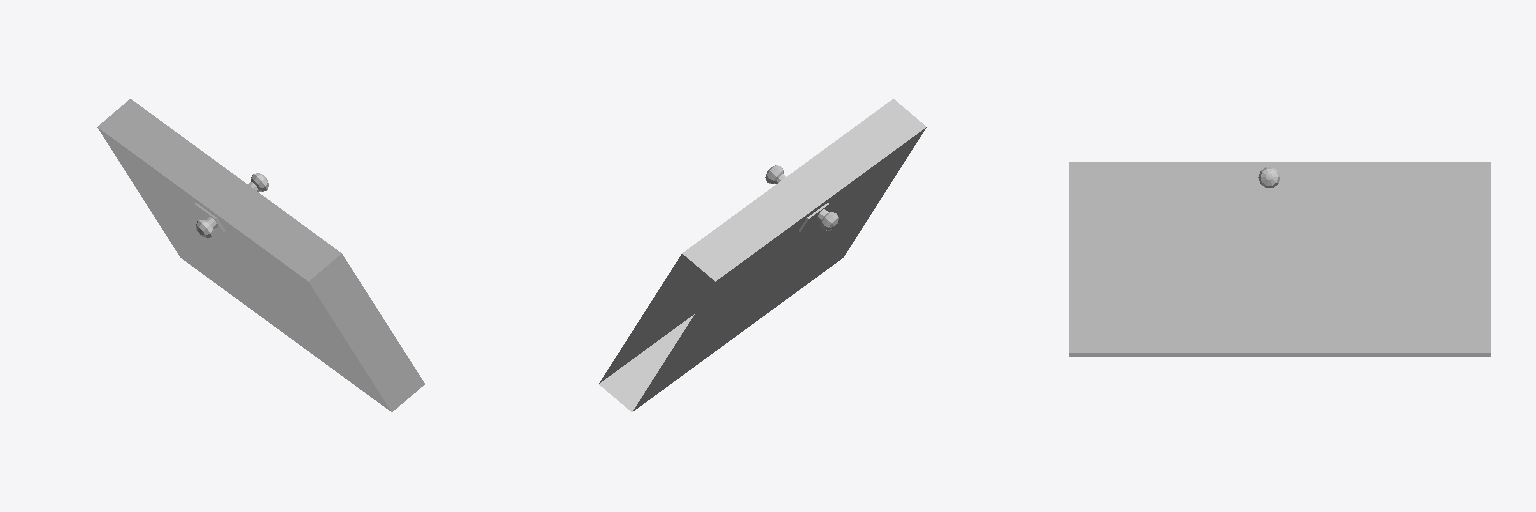
File: f_Door(Reverse_open_2_3).obj
The picture shows the model from 3 angles: view 1: azimuth 30°, elevation 25°; view 2: azimuth 150°, elevation 25°; view 3: azimuth 270°, elevation 25°; orthographic projection.
Parts seen in each view (by area): view 1: Door.001; view 2: Door.001; view 3: Door.001.
Part boxes in pixels (x1,y1,x2,y2): Door.001: (97,99,424,411); Door.001: (599,99,926,411); Door.001: (1069,162,1490,356).
Bounding box in the file's own units: 6.6 × 8.58 × 19.